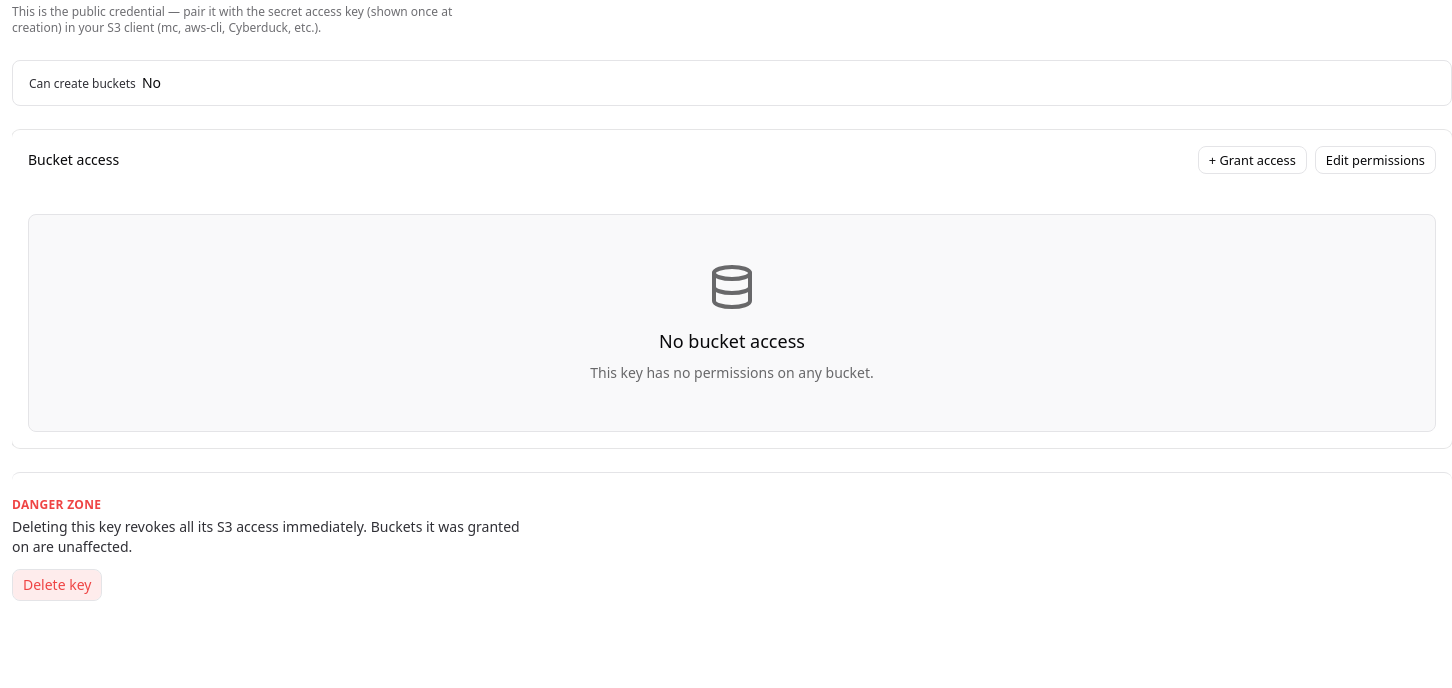
Test case: /admin/clusters/$cid/keys/$id — paginated permissions (v1.4.0b) › pagination Next/Prev moves through pages
The width and height of the screenshot is (1452, 688).
Click the button "Edit permissions" at point(1375, 160), box [1315,146,1436,174]
(page scrolled)
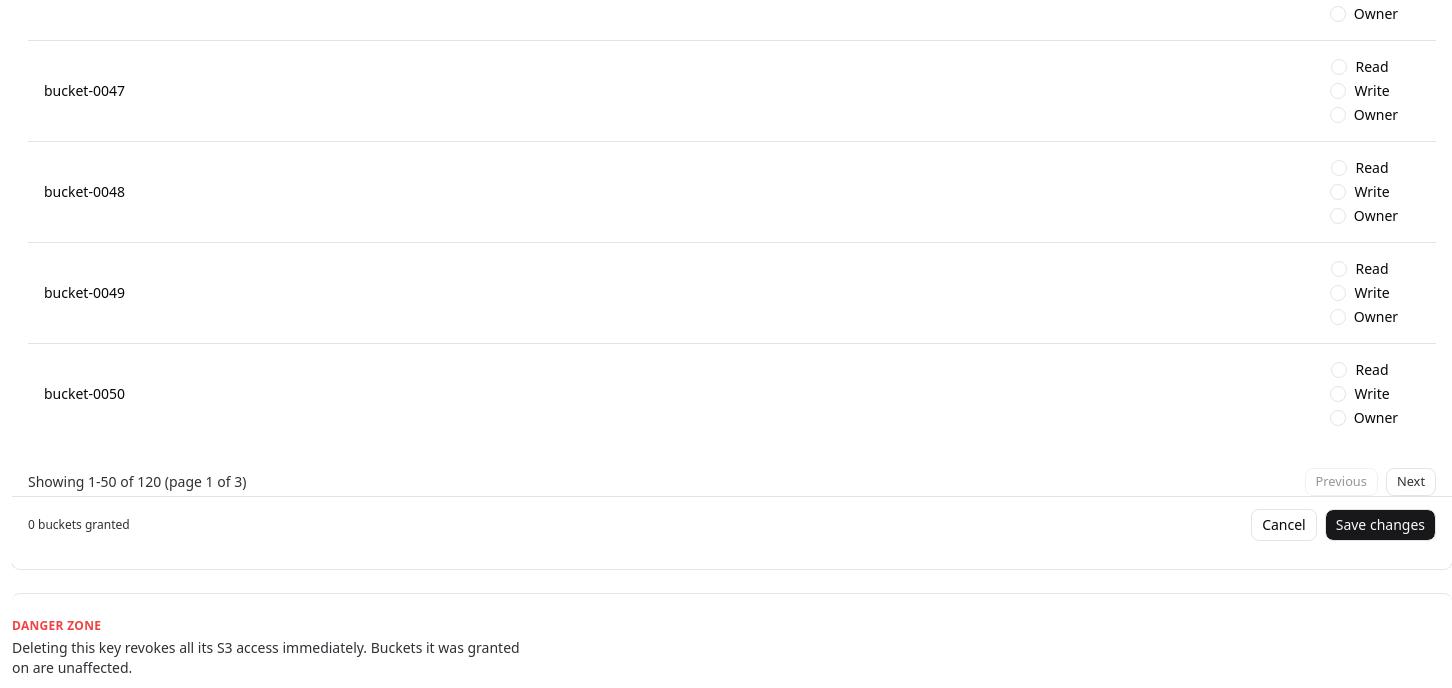
expect the text "bucket-0050" is shown: met, box [44,384,125,402]
expect the text with test id "key-perms-page-indicator" shows "Showing 1-50 of 120": met, box [28,472,161,490]
expect the text with test id "key-perms-page-indicator" shows "page 1 of 3": met, box [161,472,246,490]
# Next → page 2 (bucket-0051 .. bucket-0100).
Click the button with test id "key-perms-next" at point(1411, 482), box [1386,468,1436,496]
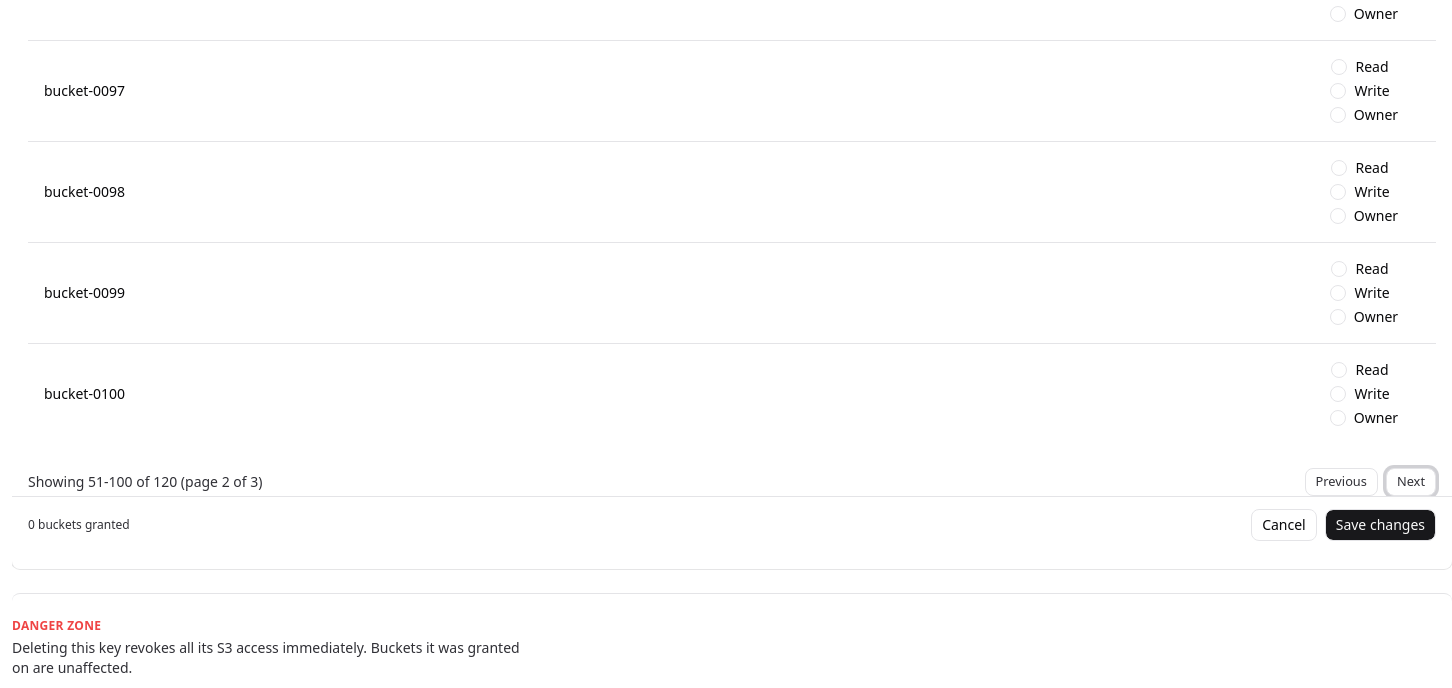
expect the text "bucket-0100" is shown: met, box [44,384,125,402]
expect the text with test id "key-perms-page-indicator" shows "page 2 of 3": met, box [177,472,262,490]
# Prev → back to page 1.
Click the button with test id "key-perms-prev" at point(1341, 482), box [1305,468,1378,496]
(page scrolled)
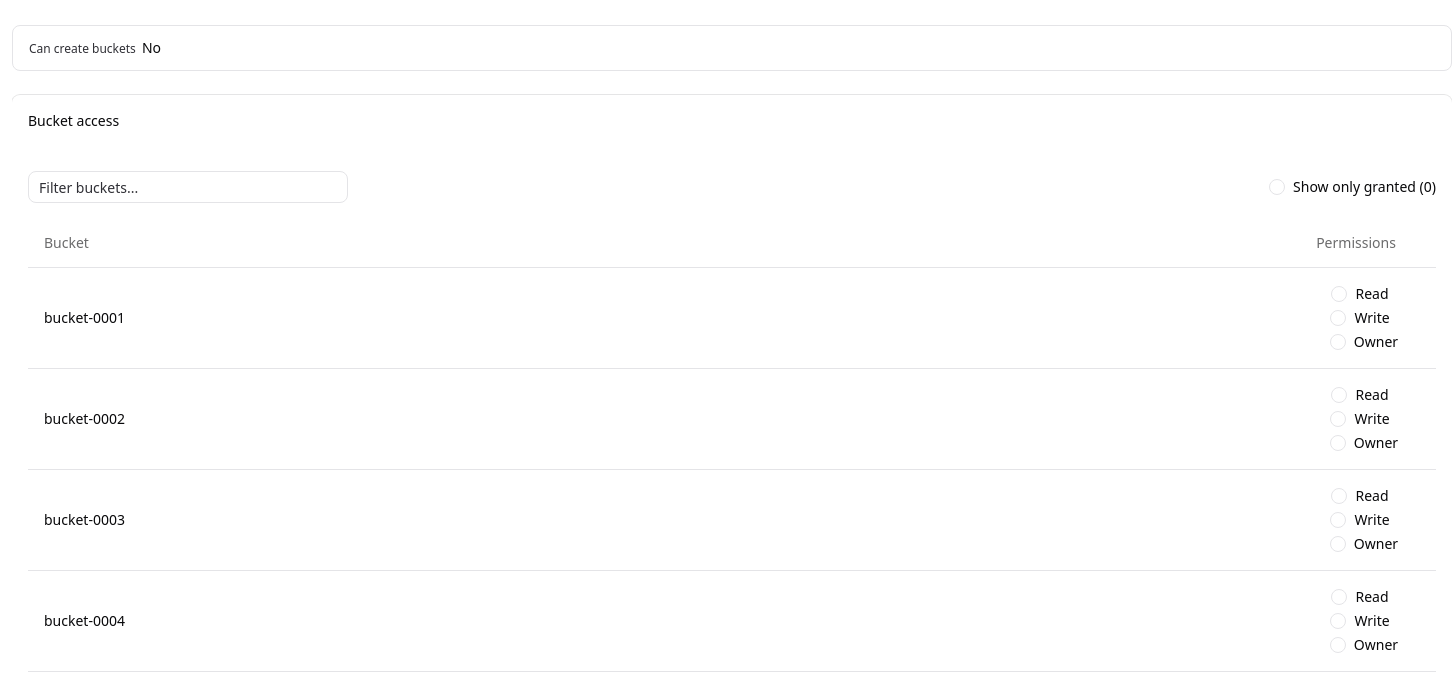
expect the text "bucket-0001" is shown: met, box [44,308,125,326]
